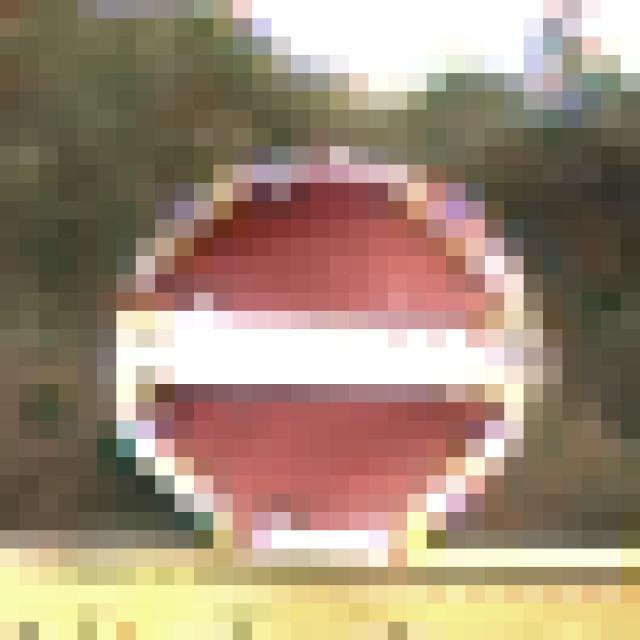No Entry: (98, 111, 544, 531)
